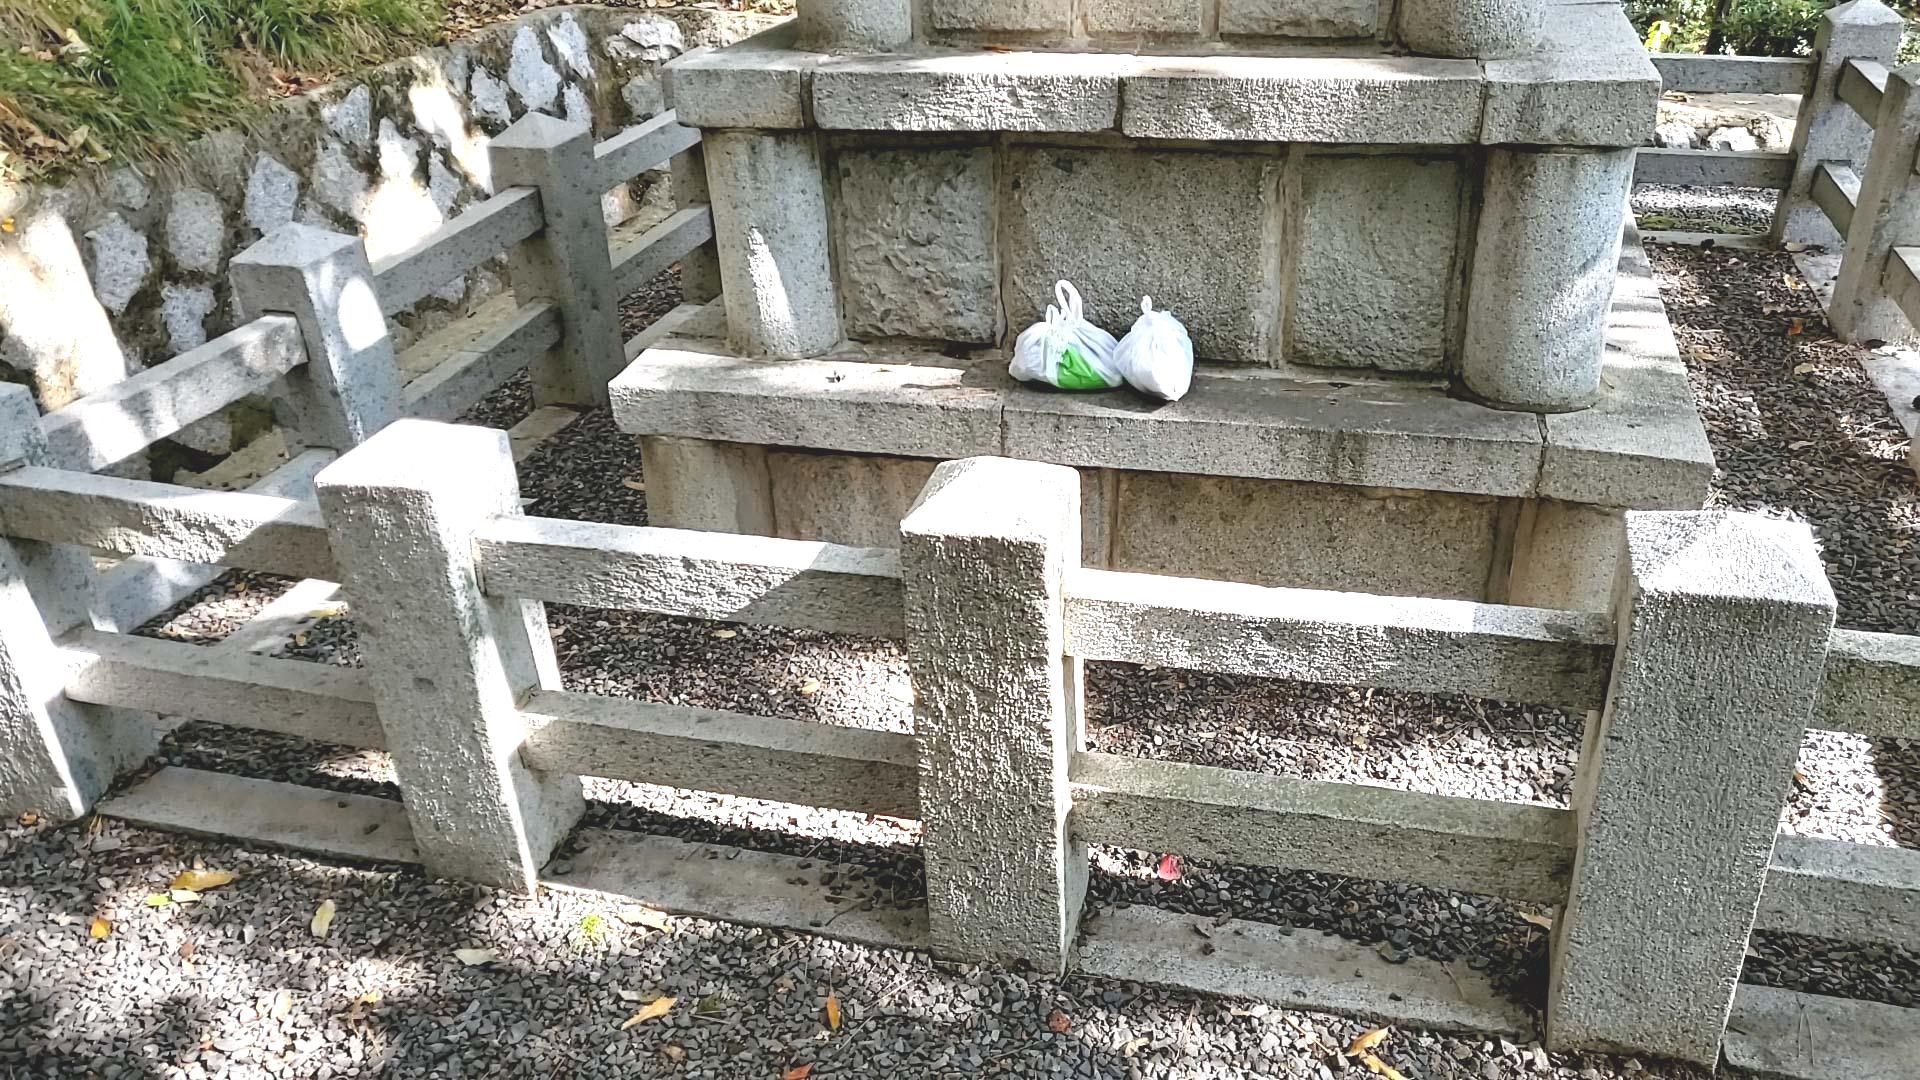white_bag: (1001, 276, 1135, 400), (1106, 293, 1207, 407)
